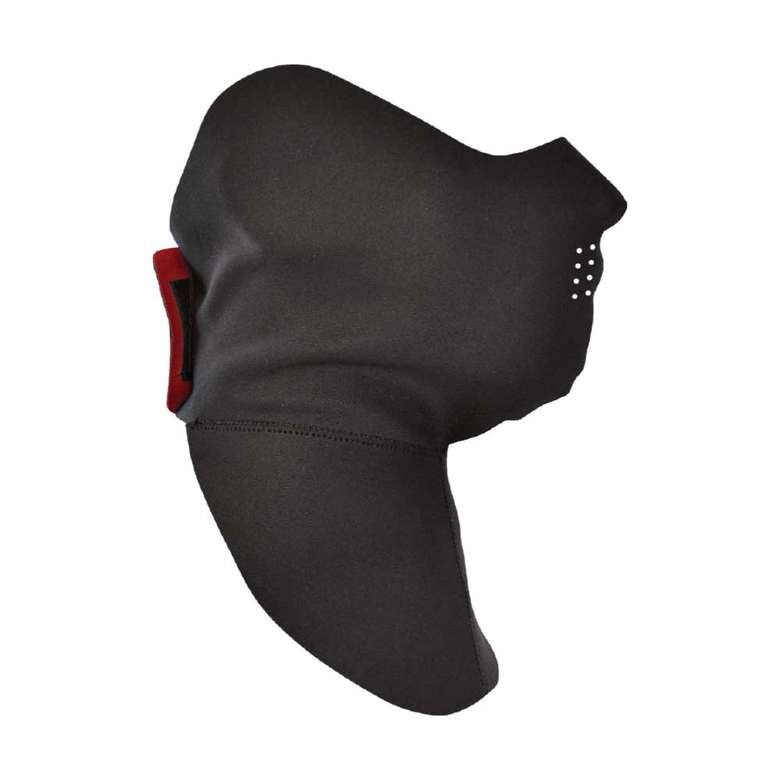maske: (63, 44, 670, 731)
